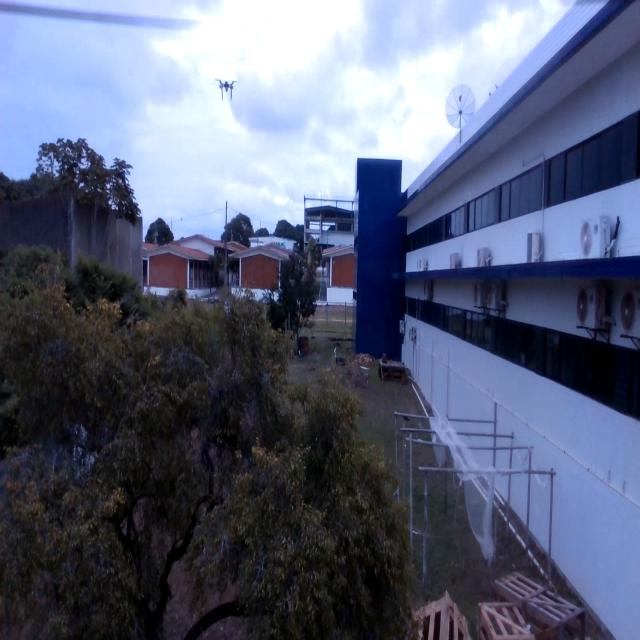-uav-: (210, 68, 241, 113)
